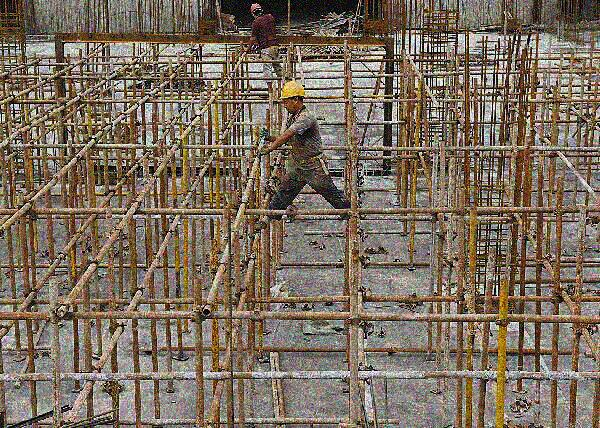helmet: (280, 80, 306, 114), (249, 3, 264, 19)
